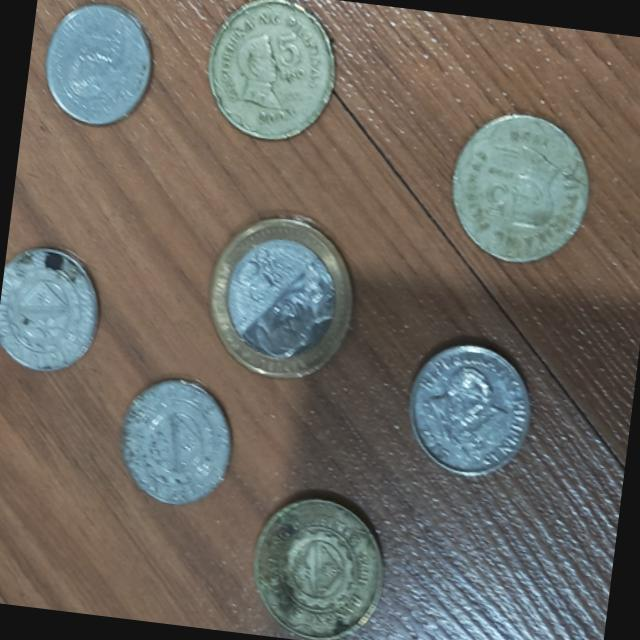1_peso: (409, 345, 529, 474), (121, 380, 228, 501), (48, 4, 150, 123), (0, 248, 97, 370)
20_peso: (211, 217, 351, 377)
5_peso: (452, 114, 587, 261), (253, 500, 382, 639), (208, 0, 334, 139)
